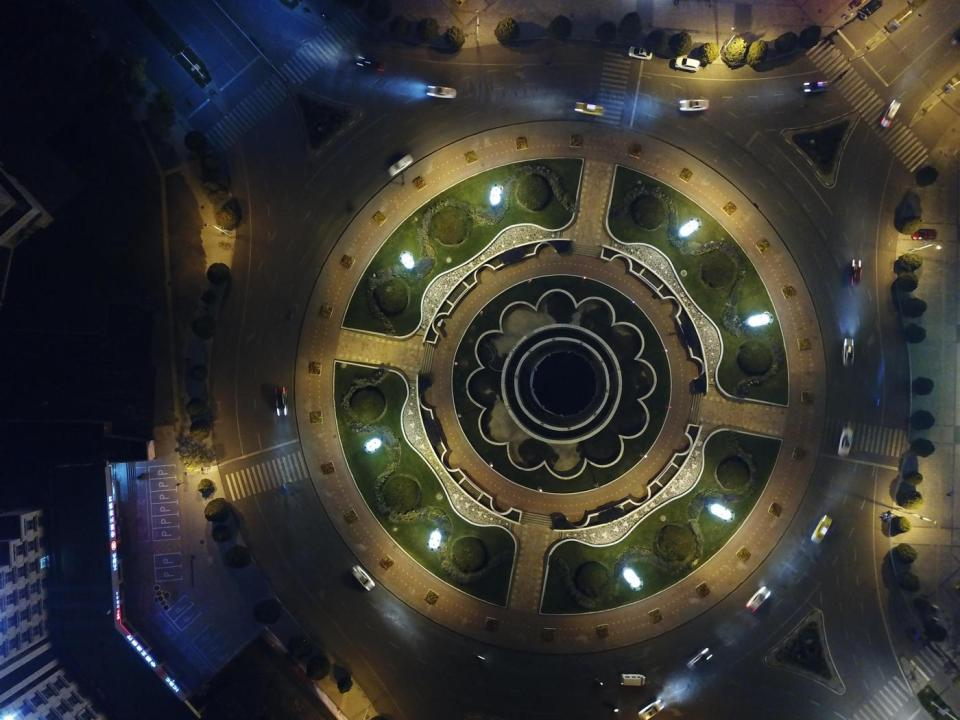car: (350, 564, 375, 591), (746, 586, 771, 613), (811, 514, 834, 543), (686, 647, 712, 671), (388, 154, 414, 177), (637, 698, 664, 720), (880, 100, 901, 127), (856, 0, 882, 20), (357, 56, 386, 72), (575, 102, 604, 117), (275, 386, 289, 416), (675, 57, 701, 72), (678, 99, 710, 111), (838, 426, 850, 458), (427, 86, 456, 99), (628, 46, 652, 61), (910, 228, 937, 241), (843, 338, 854, 368), (803, 80, 828, 93), (852, 259, 861, 287)
van: (621, 673, 645, 686)
